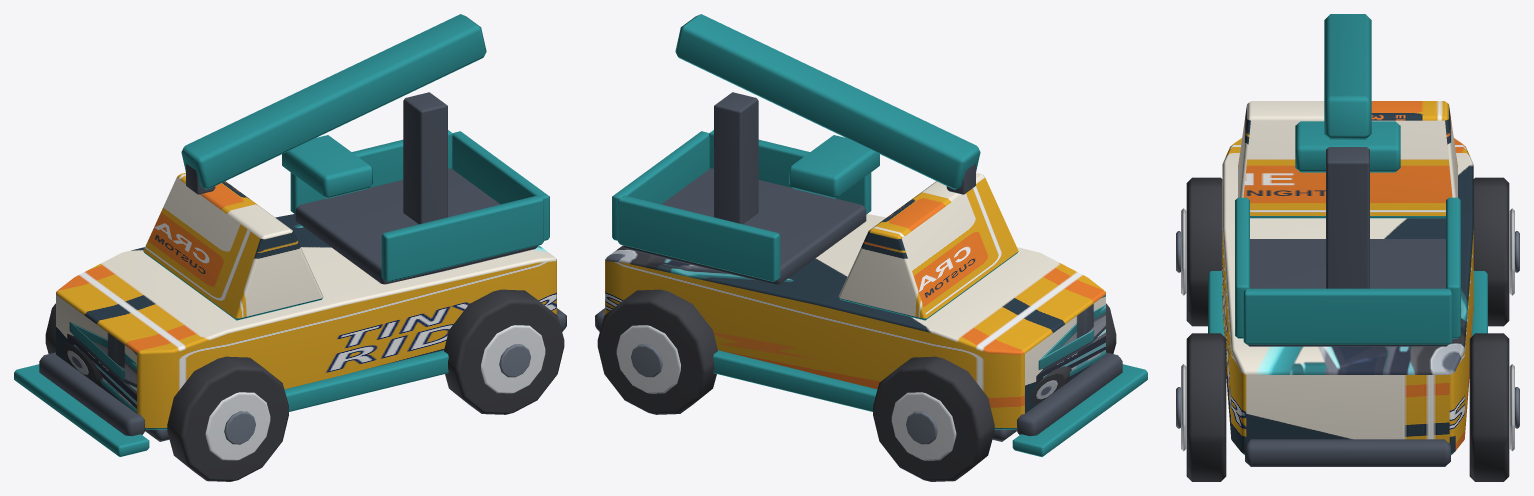
3 renders of one model, left to right at view 1: azimuth 30°, elevation 25°; view 2: azimuth 150°, elevation 25°; view 3: azimuth 270°, elevation 25°, orthographic. The views are drawn at different scales.
Visible parts, largest first — view 1: WY-04_connected_shell, boom, WY-04_cabin, Tire, Tire.002, cargo side, cargo floor, boom pillar, custom side guard, custom equipment, cargo tail, custom chin (+6 smaller); view 2: WY-04_connected_shell, boom, WY-04_cabin, Tire.001, Tire.003, cargo side.001, cargo floor, boom pillar, custom side guard.001, custom equipment, cargo tail, custom chin (+6 smaller); view 3: WY-04_connected_shell, WY-04_cabin, cargo tail, cargo floor, boom pillar, Tire.002, Tire.003, boom, rear bumper, Tire, Tire.001, custom equipment (+8 smaller).
Boxes of the visible parts, box(x1,y1,x2,y2) form: WY-04_connected_shell: box(56, 214, 556, 429); boom: box(181, 14, 486, 189); WY-04_cabin: box(143, 172, 323, 320); Tire: box(167, 356, 288, 481); Tire.002: box(444, 289, 564, 414); cargo side: box(381, 195, 543, 281); cargo floor: box(295, 168, 537, 284); boom pillar: box(403, 92, 447, 224); custom side guard: box(284, 350, 448, 411); custom equipment: box(282, 135, 372, 198); cargo tail: box(452, 131, 549, 240); custom chin: box(14, 364, 149, 456); WY-04_connected_shell: box(605, 214, 1105, 429); boom: box(675, 14, 980, 189); WY-04_cabin: box(838, 172, 1018, 320); Tire.001: box(873, 356, 994, 481); Tire.003: box(597, 289, 717, 414); cargo side.001: box(618, 195, 780, 281); cargo floor: box(624, 168, 866, 284); boom pillar: box(714, 92, 758, 224); custom side guard.001: box(713, 350, 877, 411); custom equipment: box(789, 135, 879, 198); cargo tail: box(612, 131, 709, 240); custom chin: box(1012, 364, 1147, 456); WY-04_connected_shell: box(1222, 138, 1473, 454); WY-04_cabin: box(1238, 101, 1457, 218); cargo tail: box(1243, 288, 1452, 344); cargo floor: box(1247, 239, 1448, 346); boom pillar: box(1326, 147, 1369, 288); Tire.002: box(1186, 333, 1226, 481); Tire.003: box(1469, 333, 1509, 481); boom: box(1324, 14, 1371, 139); rear bumper: box(1245, 439, 1450, 466); Tire: box(1186, 177, 1222, 326); Tire.001: box(1473, 177, 1509, 326); custom equipment: box(1295, 121, 1400, 172).
Size of the model in its own units: 404 by 285 by 226.
